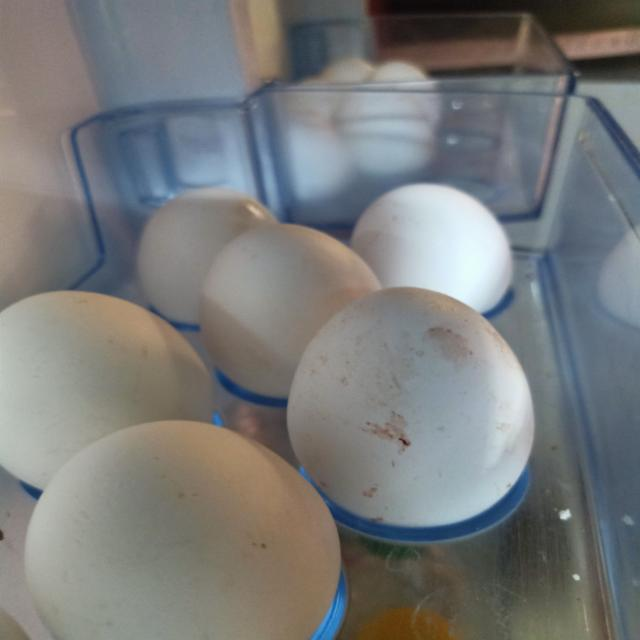Egg: (7, 402, 377, 639), (283, 279, 556, 537), (3, 270, 242, 503), (182, 218, 393, 404), (348, 183, 516, 319)
